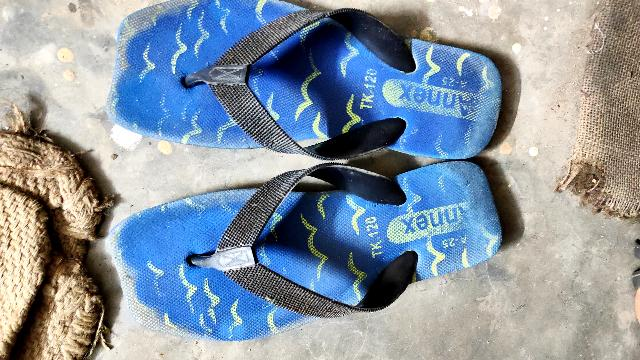sandal: (113, 136, 506, 360), (93, 4, 519, 168)
